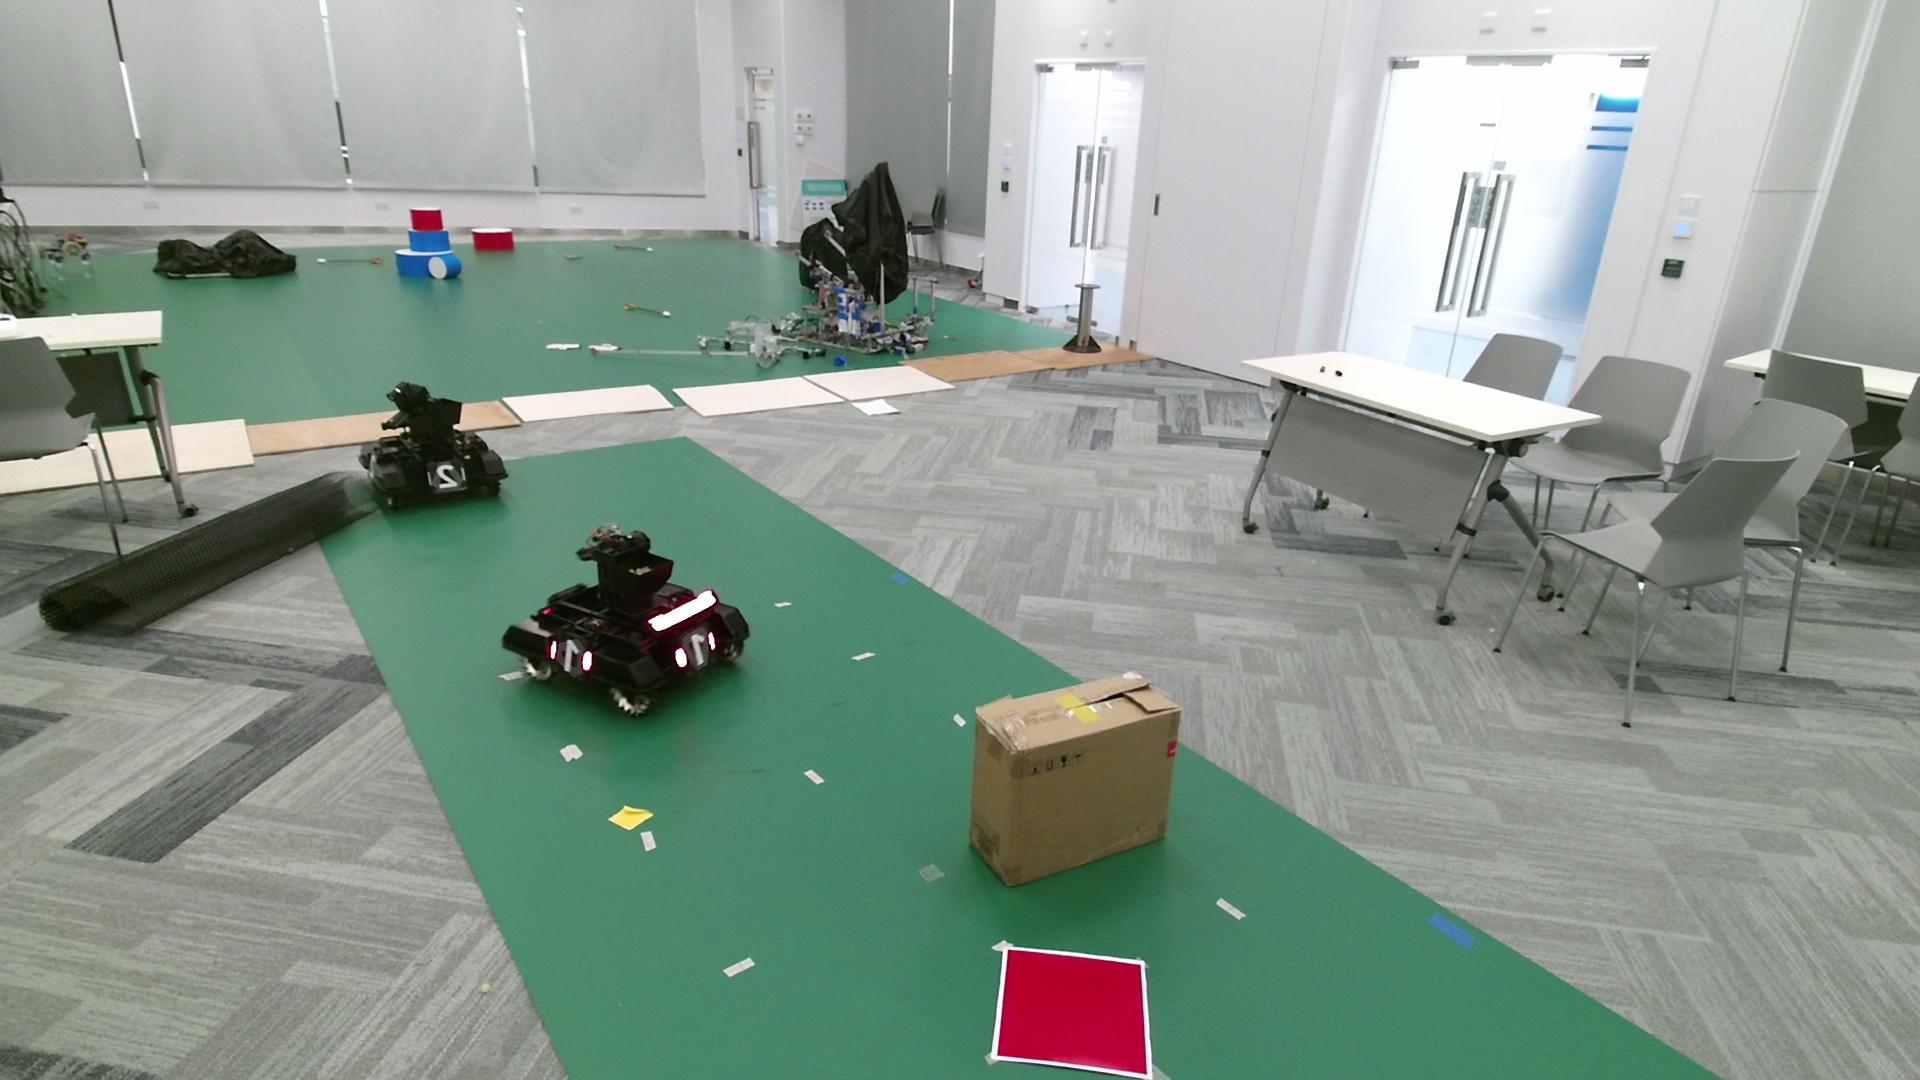robot: (500, 521, 752, 717), (357, 380, 508, 510)
